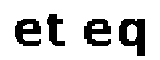e: (80, 17, 115, 51), (13, 17, 43, 48)
q: (117, 16, 151, 59)
t: (46, 11, 70, 52)
